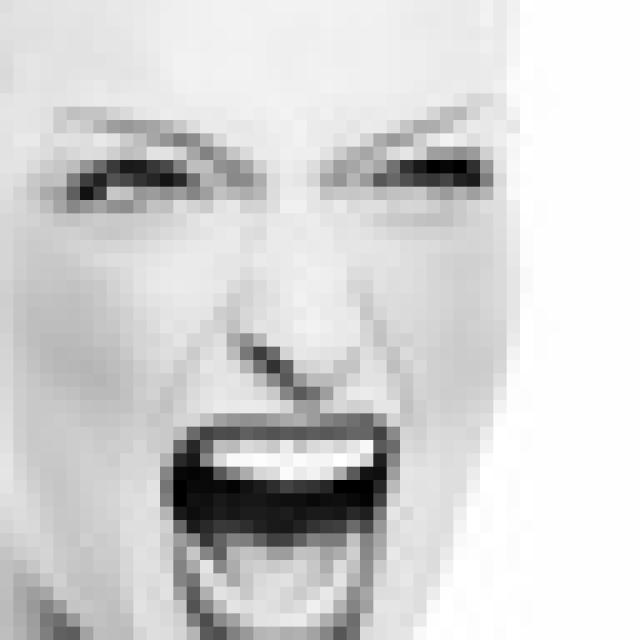angry: (28, 91, 500, 640)
